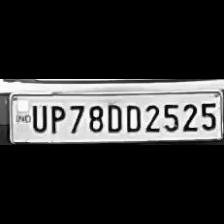2: (178, 100, 198, 132), (142, 101, 160, 133)
5: (159, 100, 179, 132), (197, 100, 217, 132)
7: (65, 102, 84, 134)
8: (84, 102, 106, 134)
D: (122, 102, 142, 134), (104, 101, 122, 133)
P: (46, 102, 66, 134)
U: (28, 101, 48, 133)
